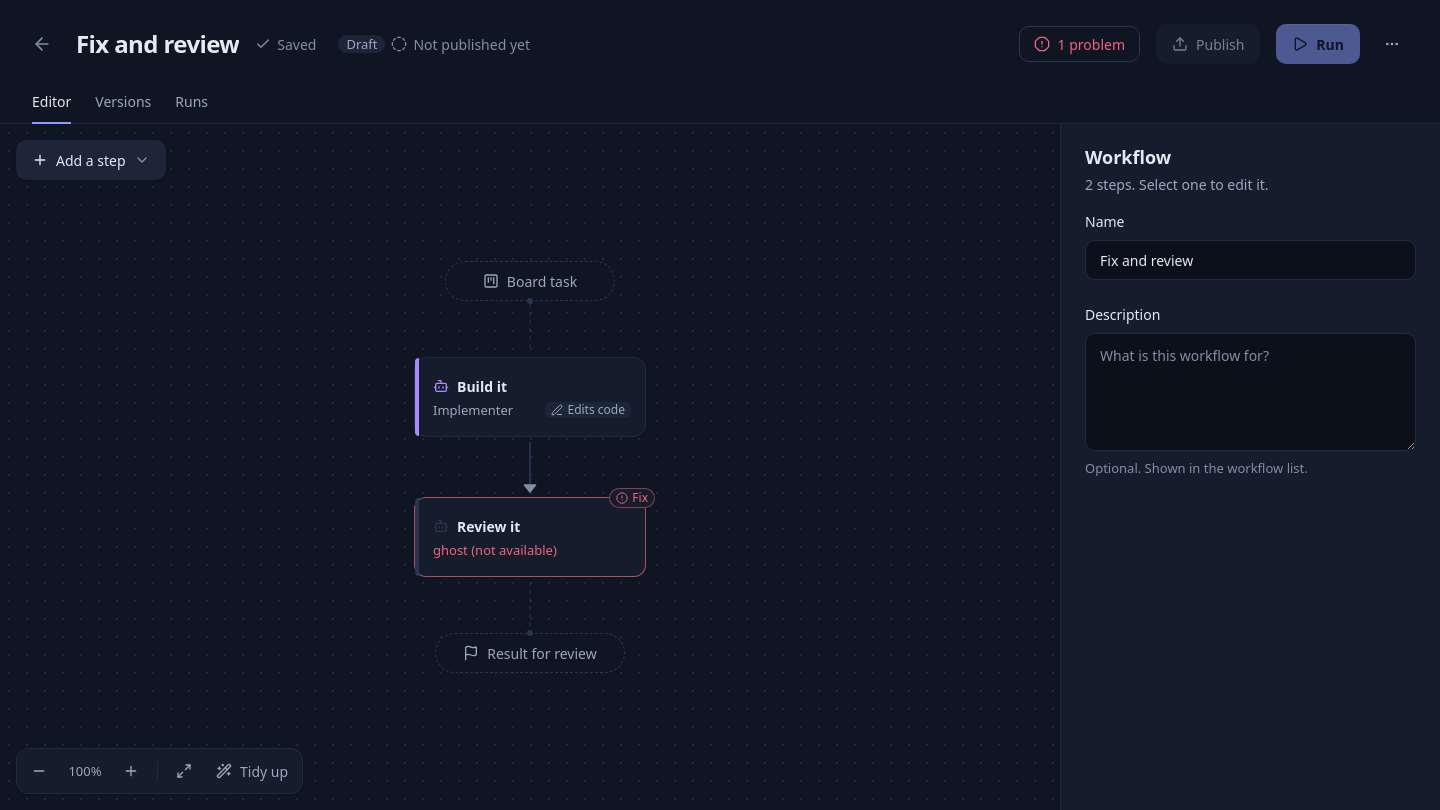
Test: workflow editor › turns a save that lost to another tab into a choice, not an overwrite
Step 1. Type "!" into the field labelled "Name" → (1250, 260), box [1085,240,1416,280]
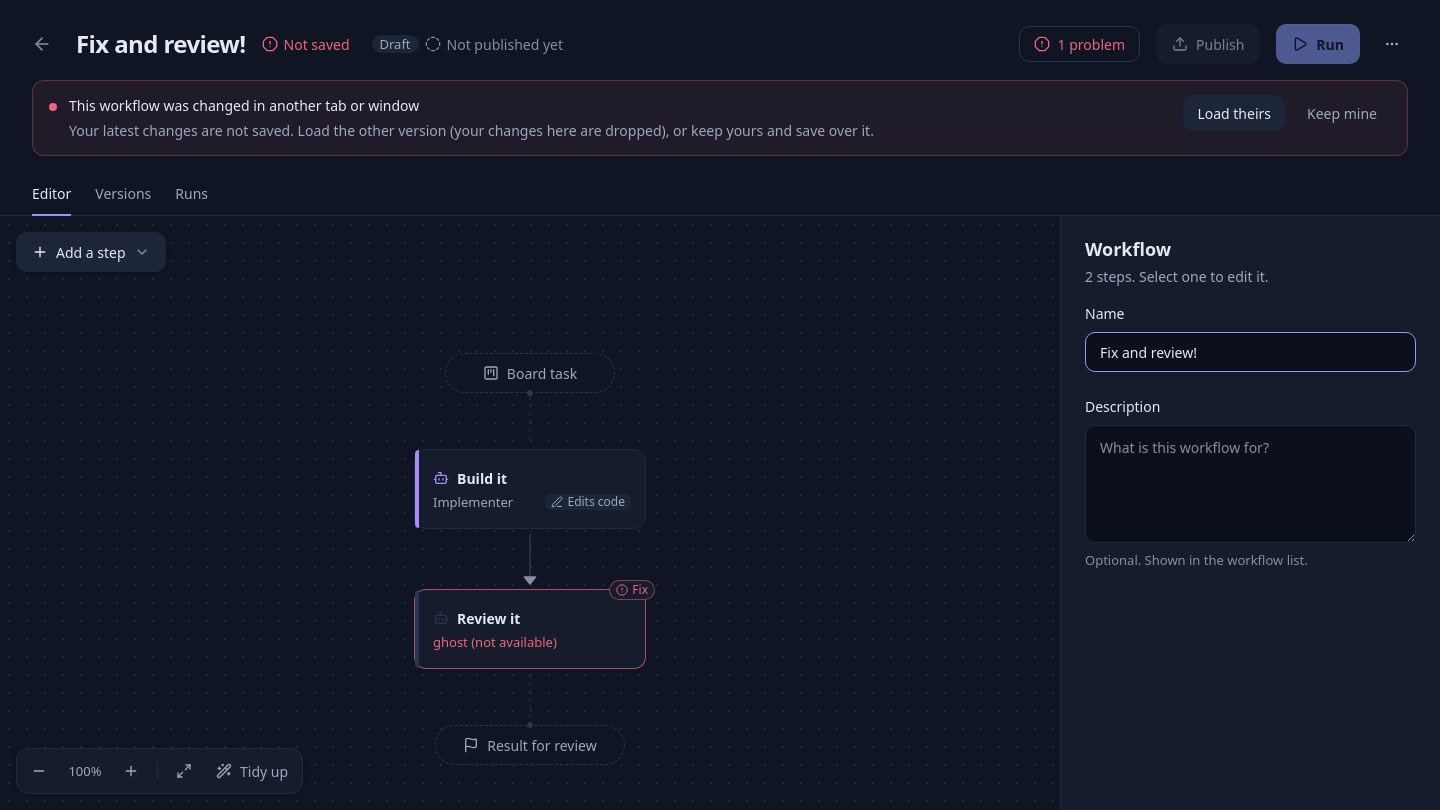
expect the button "Run" is disabled: met, box [1276,24,1360,64]
expect the text "This workflow was changed in another tab or window" is shown: met, box [69,96,419,115]
Step 2. Click the button "Keep mine" → click(1342, 113), box [1293,95,1391,131]
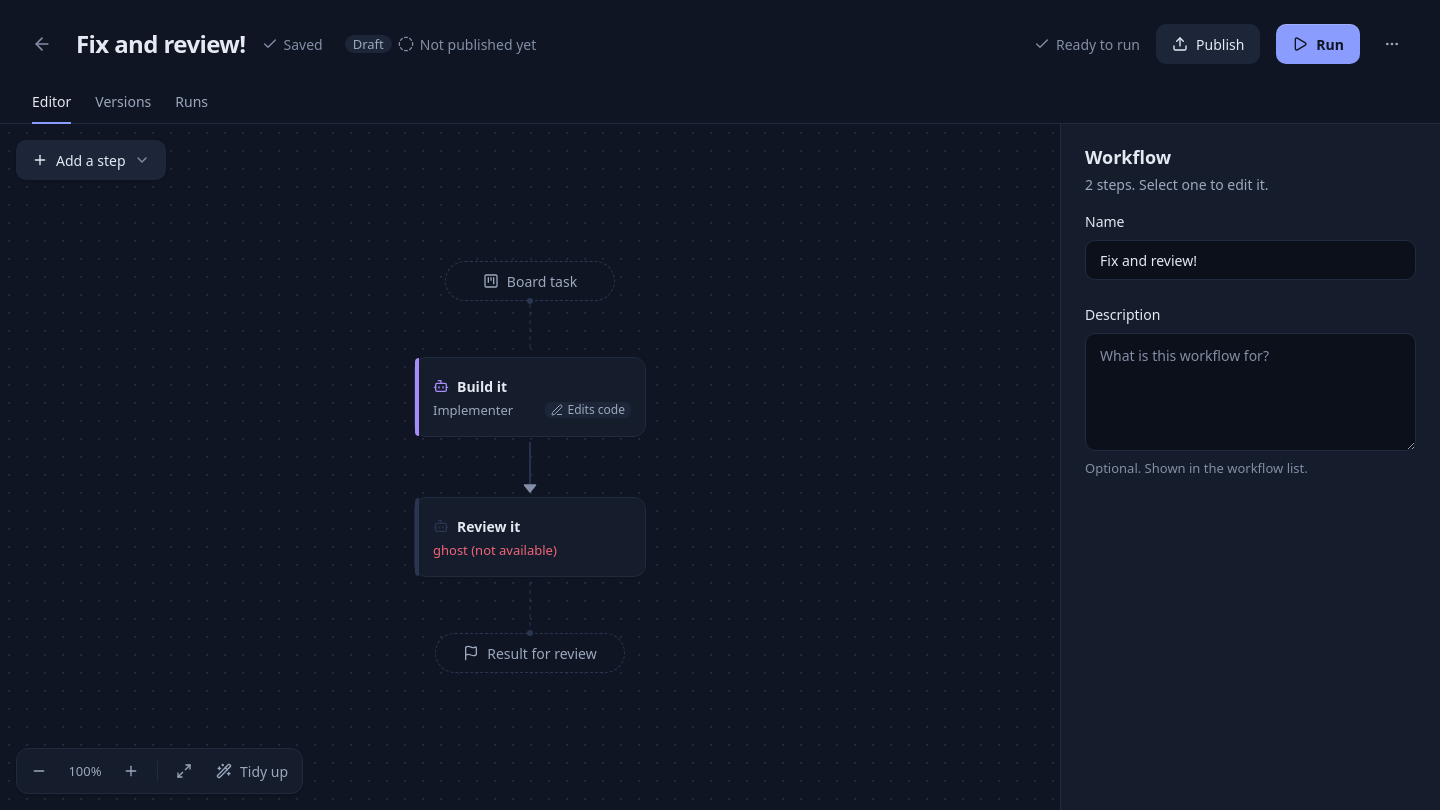
expect the text "This workflow was changed in another tab or window" is gone: met
